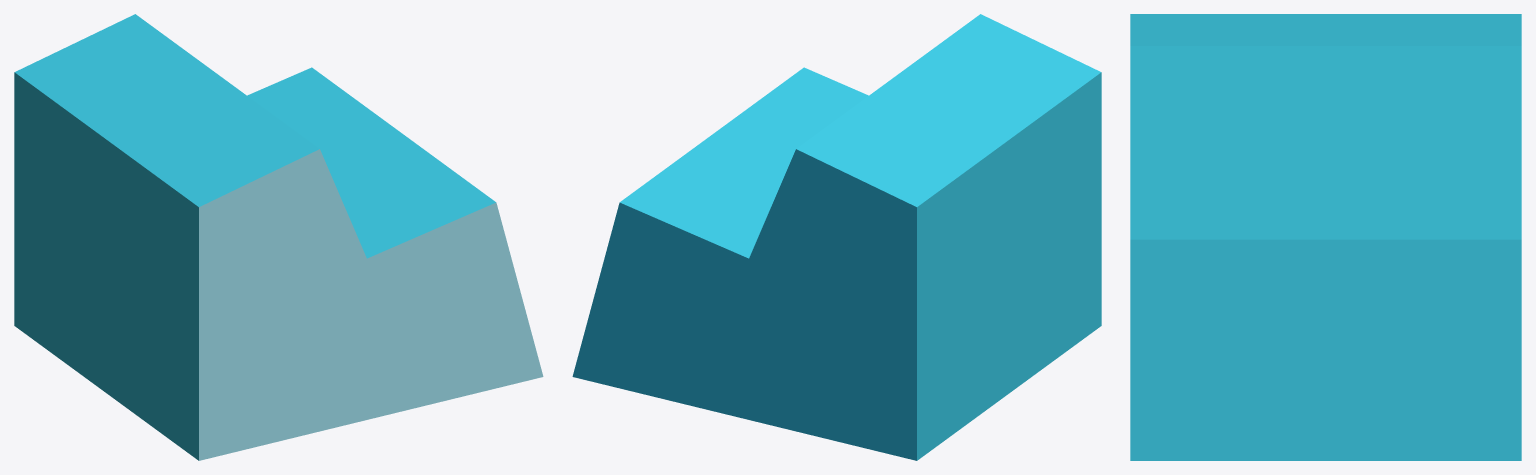
File: D_FBX_07_DesT_Wall_12.fbx
The picture shows the model from 3 angles, left to right: view 1: azimuth 30°, elevation 25°; view 2: azimuth 150°, elevation 25°; view 3: azimuth 270°, elevation 25°; orthographic projection. The views are drawn at different scales.
Visible parts, largest first — view 1: D_FBX_07_DesT_Wall_12; view 2: D_FBX_07_DesT_Wall_12; view 3: D_FBX_07_DesT_Wall_12.
Part boxes in pixels (left/top/right/bottom): D_FBX_07_DesT_Wall_12: left=14, top=14, right=543, bottom=460; D_FBX_07_DesT_Wall_12: left=572, top=14, right=1101, bottom=460; D_FBX_07_DesT_Wall_12: left=1130, top=14, right=1521, bottom=460.
Bounding box in the file's own units: 121 × 95.01 × 112.
